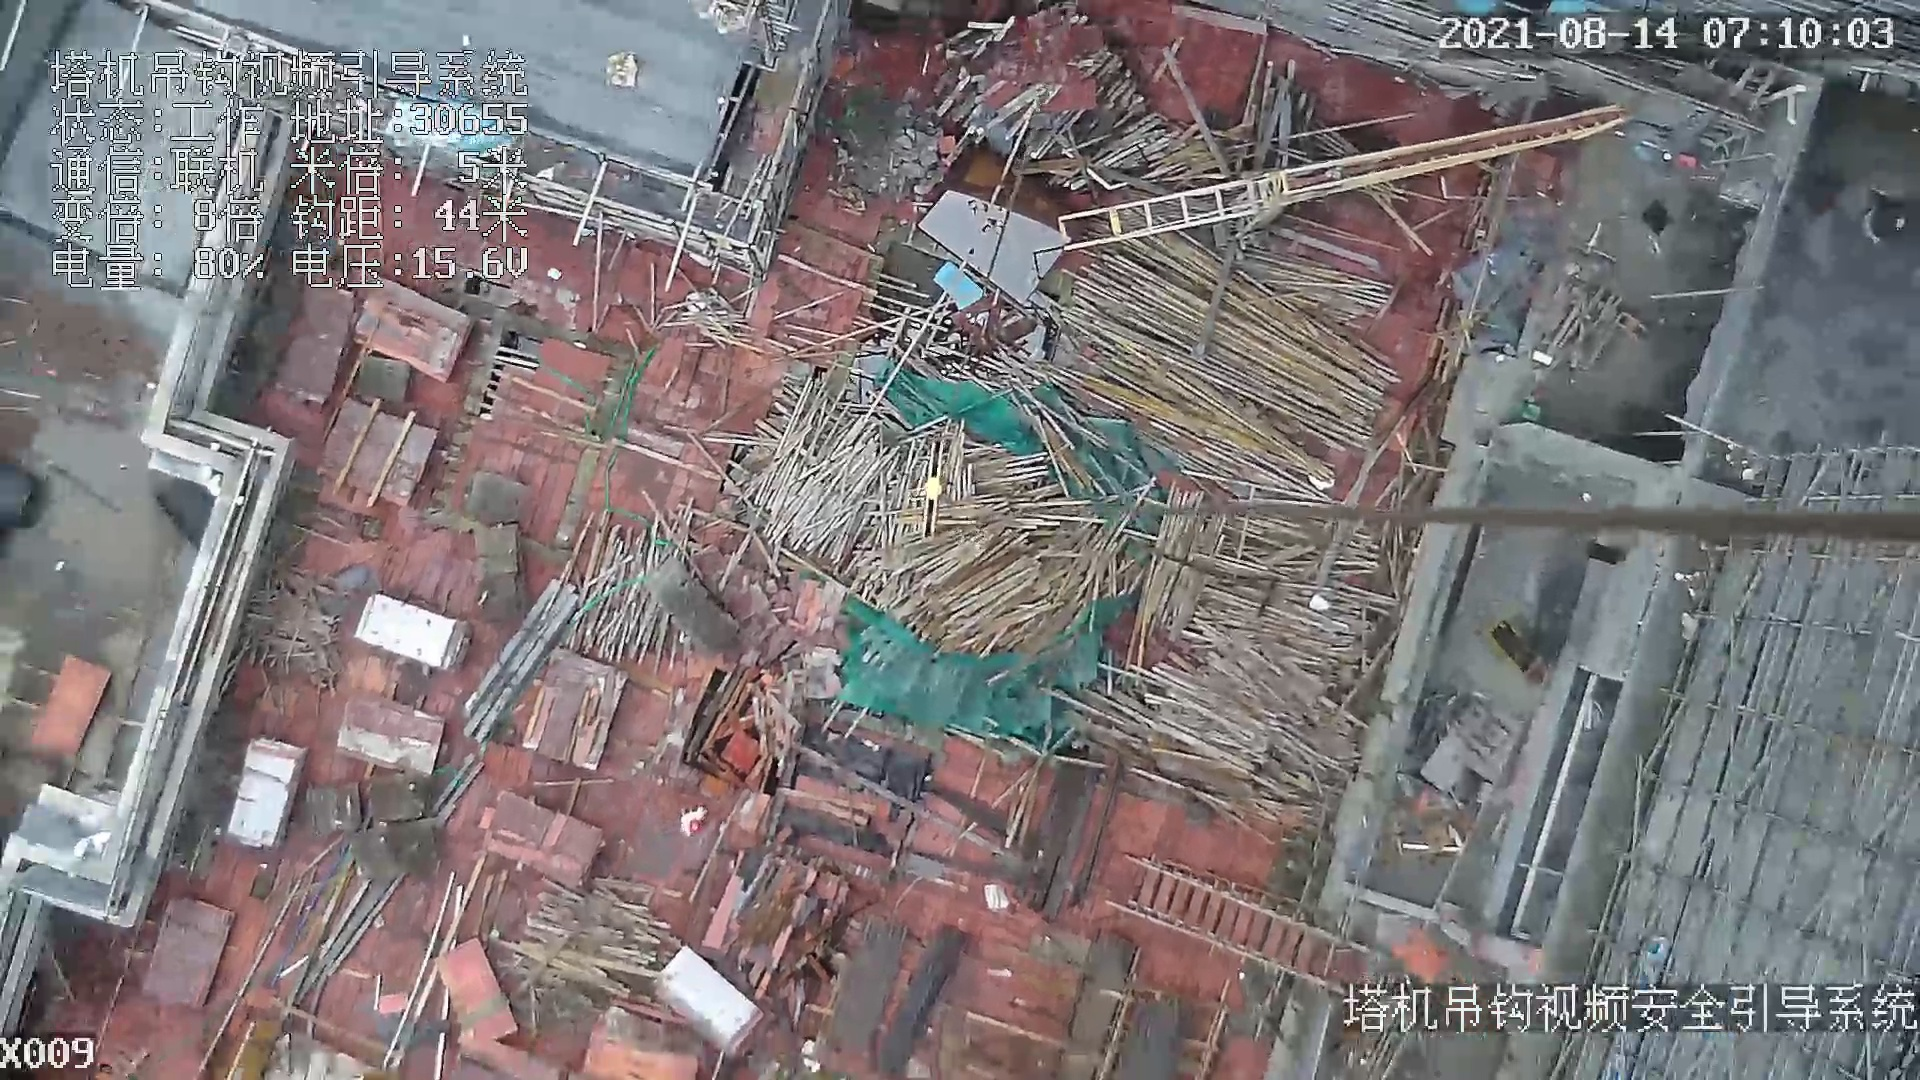helmet: (690, 819, 701, 833)
hook: (914, 435, 951, 536)
person: (679, 804, 709, 842)
